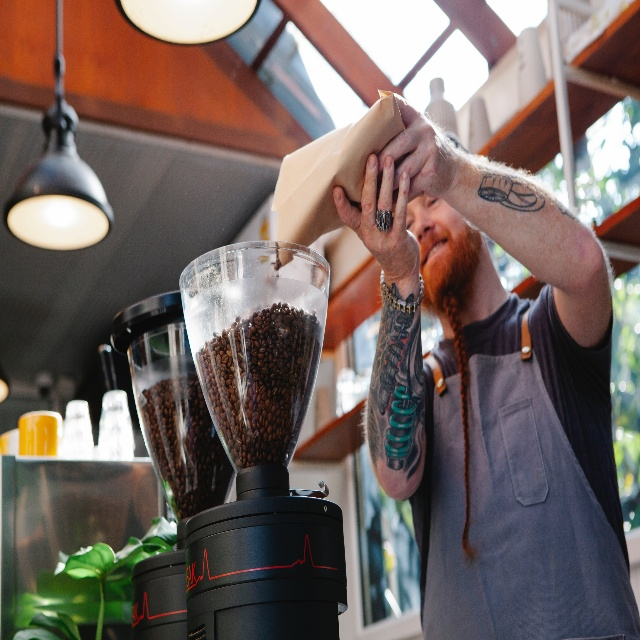Sin_guantes: (333, 153, 420, 281), (376, 92, 457, 208)
